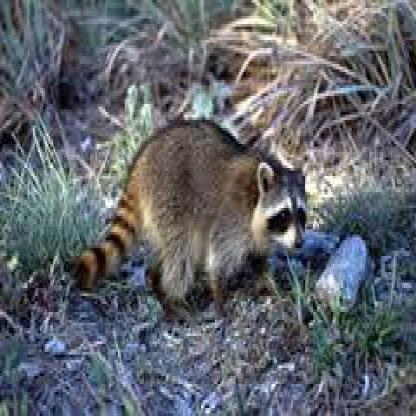raccoon: (64, 117, 308, 318)
